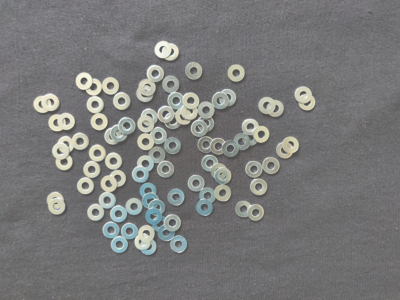circle: (267, 99, 286, 119), (157, 160, 176, 180), (170, 235, 190, 254), (249, 179, 268, 198), (233, 133, 252, 152), (167, 189, 186, 208), (131, 166, 150, 185), (124, 197, 143, 216), (33, 96, 52, 115), (215, 184, 233, 204), (175, 107, 193, 127), (164, 137, 182, 157), (75, 72, 93, 92), (276, 142, 294, 161), (299, 94, 318, 112), (248, 204, 266, 223), (235, 201, 253, 220), (242, 118, 261, 136), (199, 187, 218, 205), (227, 64, 245, 83), (139, 183, 158, 201), (137, 154, 155, 173), (150, 127, 168, 146), (136, 133, 155, 151), (185, 62, 203, 81), (136, 85, 154, 104), (162, 43, 180, 62), (111, 236, 129, 255), (109, 205, 128, 223), (48, 199, 67, 217), (77, 177, 95, 196), (83, 161, 102, 179), (105, 153, 124, 171), (72, 132, 90, 151), (84, 78, 103, 96), (244, 161, 264, 178), (141, 107, 158, 127), (136, 116, 156, 133), (46, 192, 66, 209), (114, 91, 131, 111), (258, 97, 276, 115), (215, 168, 233, 186), (197, 115, 215, 133), (187, 175, 205, 193), (164, 214, 182, 232), (148, 146, 166, 164), (147, 65, 165, 83), (87, 204, 105, 222), (49, 115, 67, 133), (191, 119, 208, 138), (212, 93, 229, 112), (198, 102, 217, 119), (165, 112, 182, 131), (163, 75, 180, 94), (155, 41, 172, 60), (99, 193, 118, 210), (104, 129, 123, 146), (103, 77, 120, 96), (86, 97, 105, 114), (42, 93, 59, 112), (282, 137, 302, 153), (254, 126, 270, 146), (198, 135, 214, 155), (221, 88, 237, 108), (295, 87, 313, 104), (264, 157, 281, 175), (242, 129, 260, 146), (222, 141, 240, 158), (196, 199, 213, 217), (152, 216, 169, 234), (148, 201, 166, 218), (142, 194, 160, 211), (167, 92, 185, 109), (139, 79, 157, 96), (139, 225, 156, 243), (122, 223, 139, 241), (110, 170, 127, 188), (89, 145, 107, 162), (111, 126, 129, 143), (90, 114, 108, 131), (52, 143, 70, 160), (56, 154, 74, 171), (59, 113, 76, 131), (183, 93, 200, 110), (158, 106, 175, 123), (141, 240, 158, 257), (103, 223, 120, 240), (201, 157, 219, 173), (211, 164, 229, 180), (158, 226, 176, 242), (100, 176, 118, 192), (120, 117, 136, 135), (57, 136, 75, 152), (146, 210, 163, 226), (136, 235, 152, 252), (181, 105, 198, 120), (212, 138, 226, 155)
